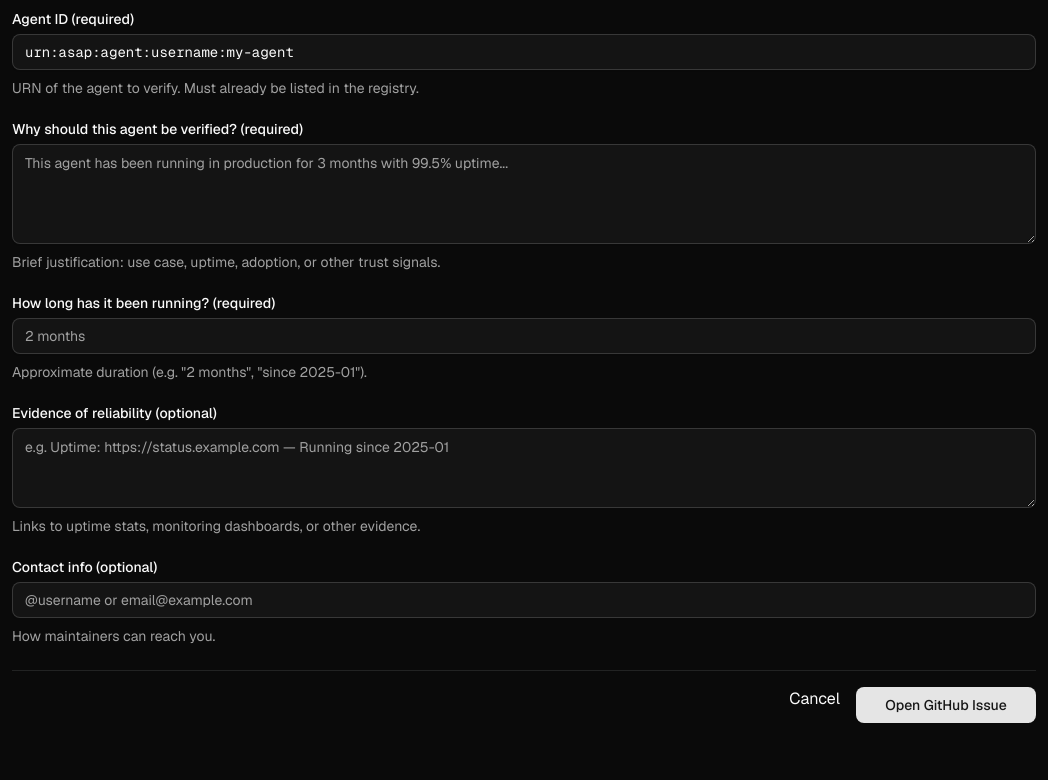
Test case: VerifyForm › validates running_since min length (Zod)
The width and height of the screenshot is (1048, 780).
Replace the text in the text box labelled "Why should this agent be verified? (required)" with "Production agent with high uptime." at (524, 194), box [12, 144, 1036, 244]
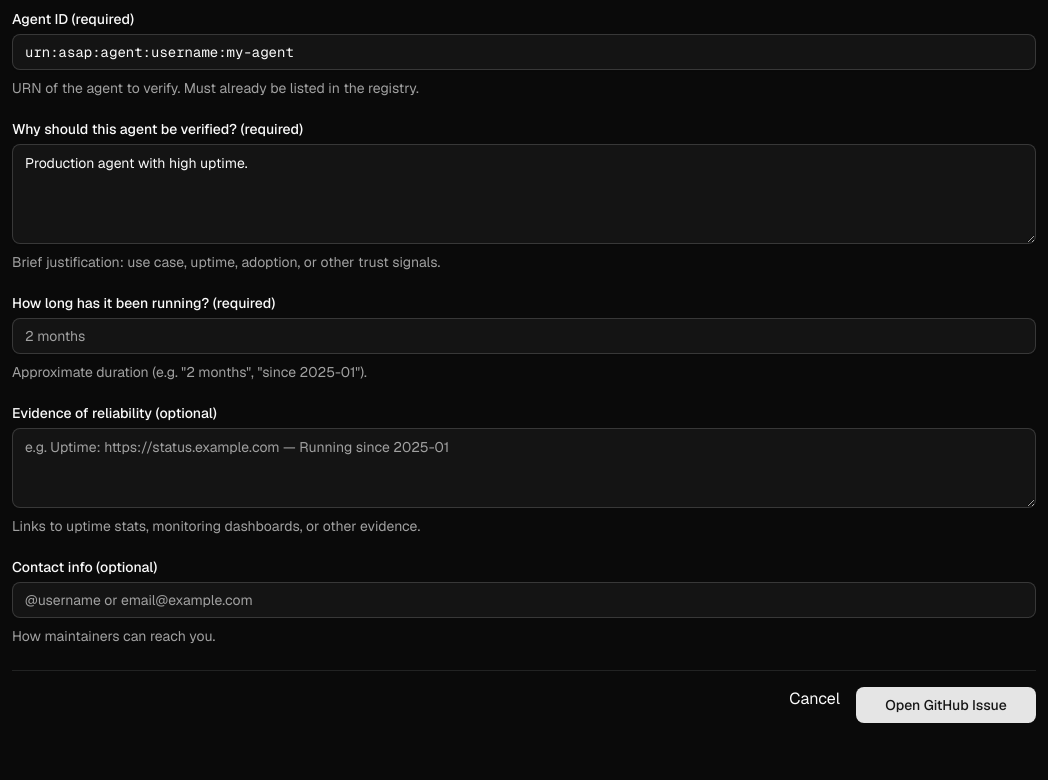
Click the button "Open GitHub Issue" at (946, 705), box [856, 687, 1036, 723]
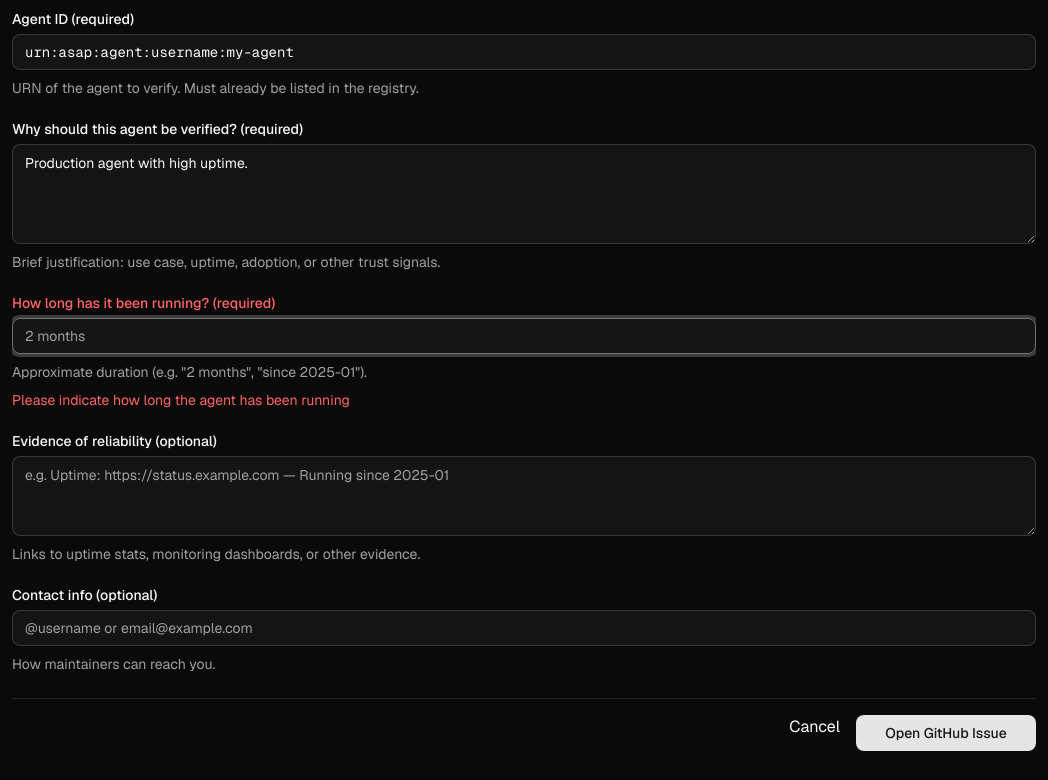
Now the text "Please indicate how long the agent has been running" is shown, box [12, 391, 350, 409]
